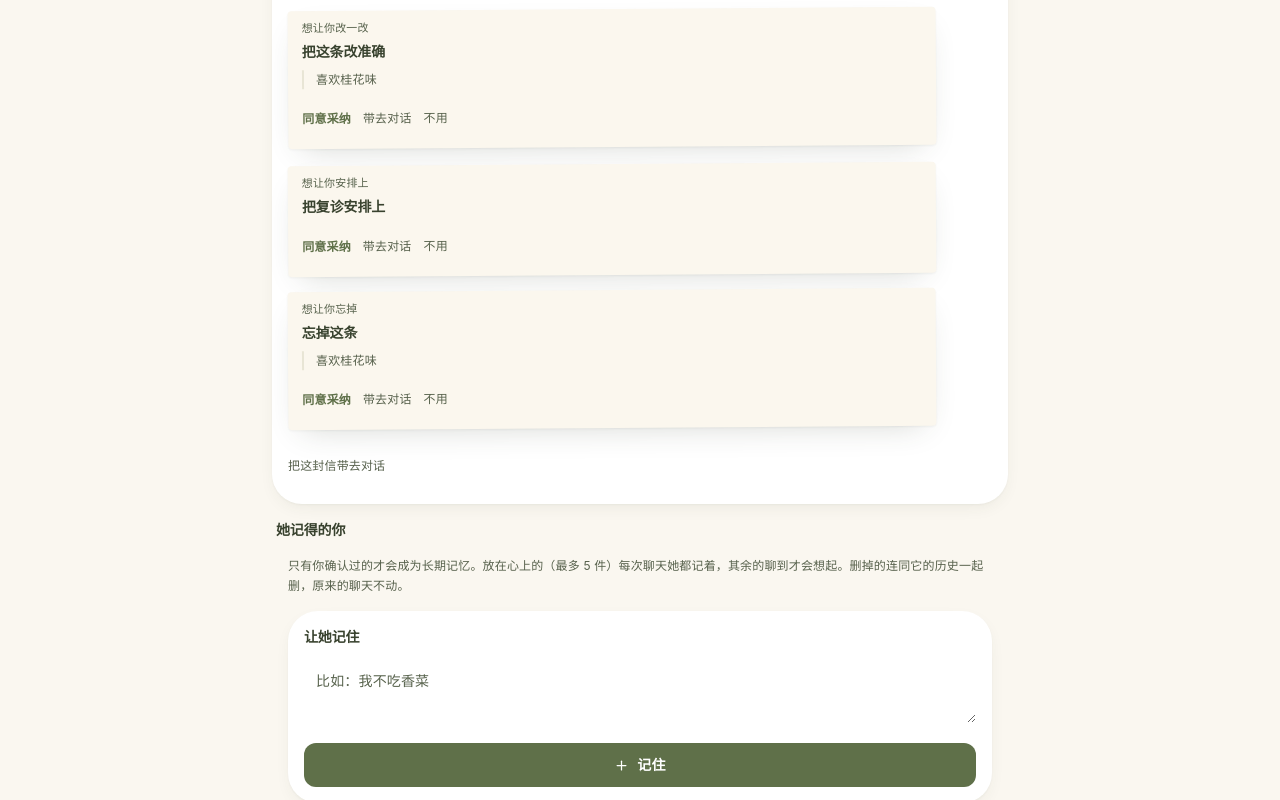
Scenario: 来信建议的三个一键动作 › 删除类建议先问一句再采纳
(page scrolled)
Click the button "同意采纳" below "忘掉这条" at (327, 400), box 302,378 -> 351,422
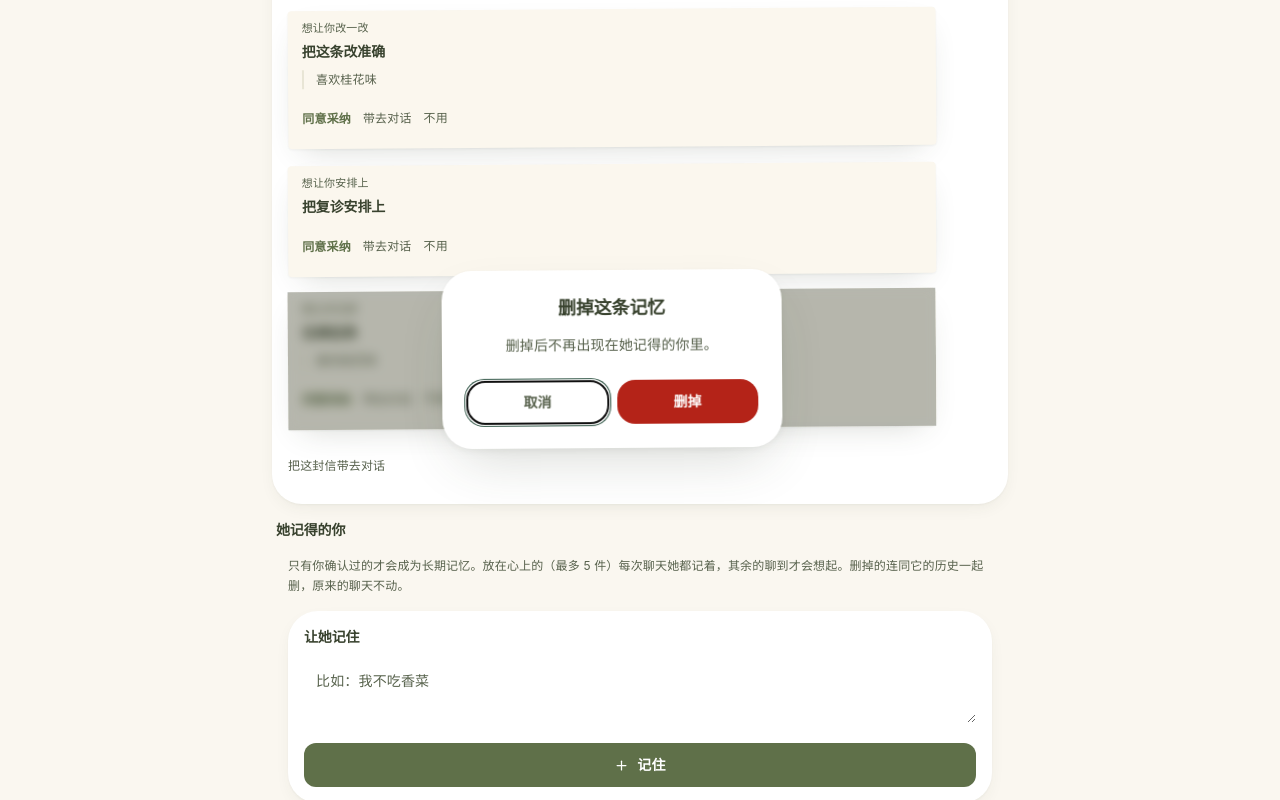
Expected: the text "删掉后不再出现在她记得的你里。" is shown, 506,335 -> 718,354
Click the button "删掉" at (688, 402), box 617,380 -> 758,425
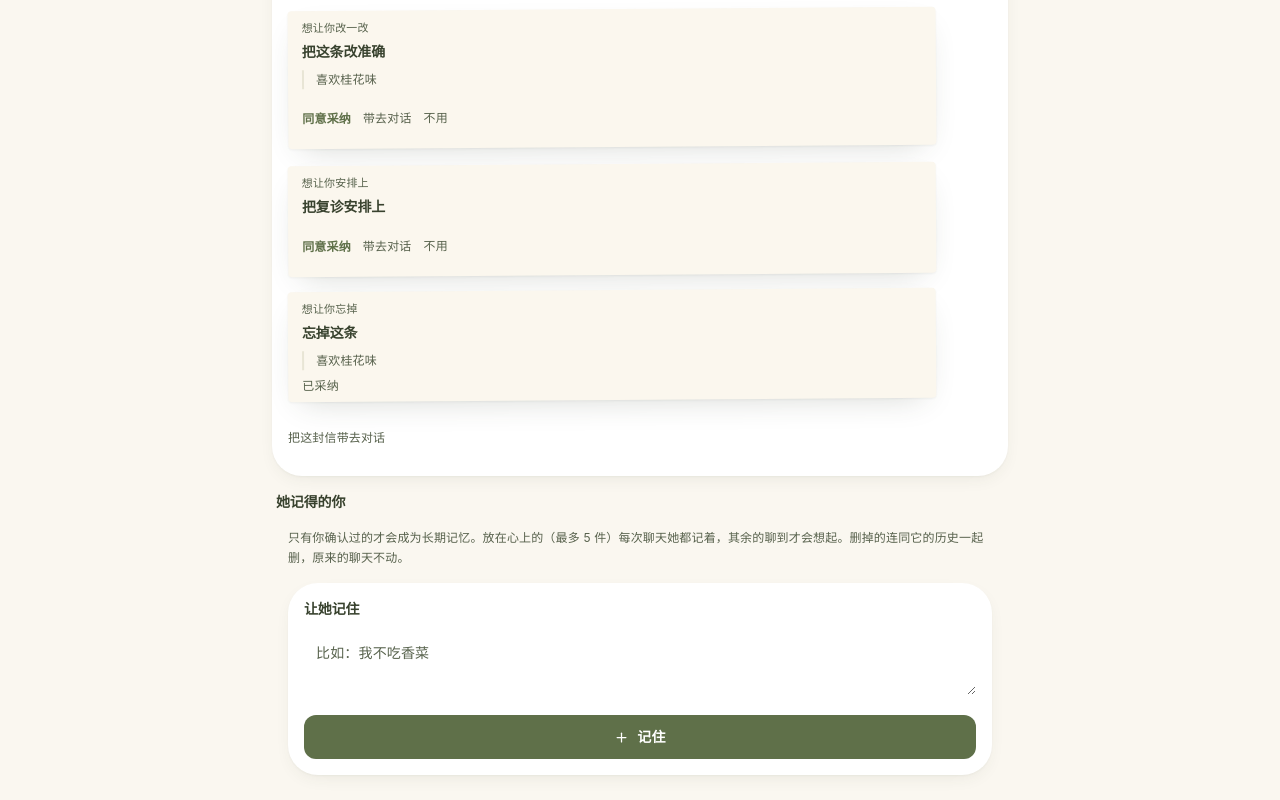
Expected: the text "已采纳" is shown, 302,378 -> 339,394
